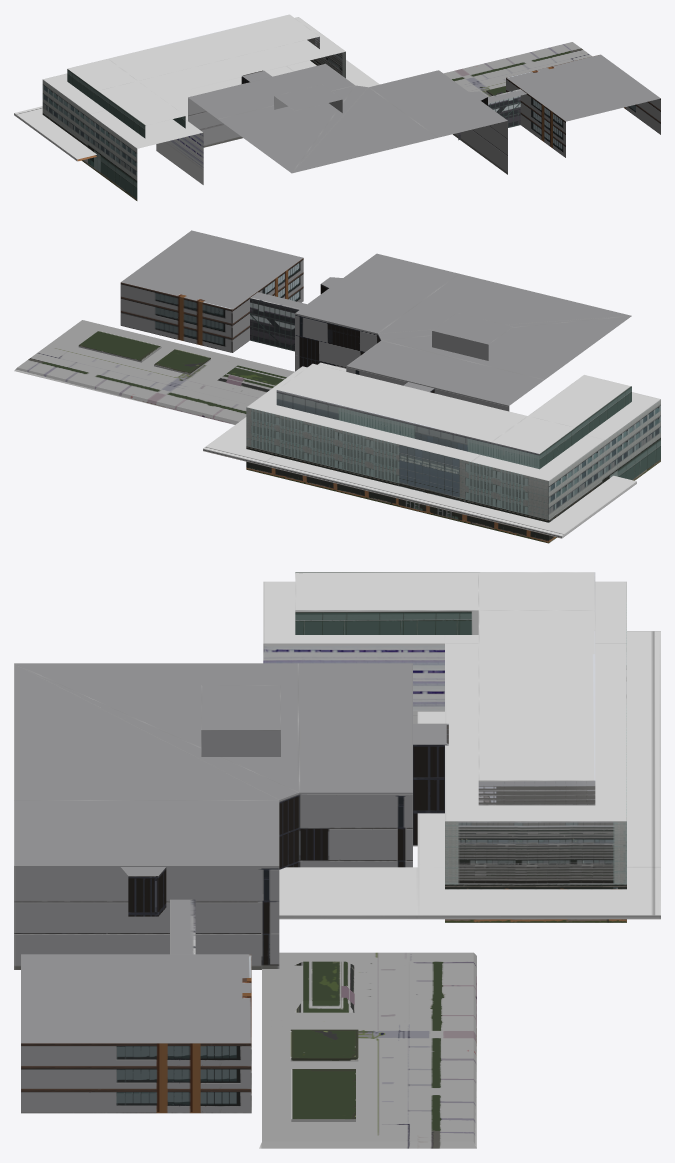
File: eosc.obj
The picture shows the model from 3 angles, top to bottom: view 1: azimuth 30°, elevation 25°; view 2: azimuth 150°, elevation 25°; view 3: azimuth 270°, elevation 25°; orthographic projection. The views are drawn at different scales.
Parts seen in each view (by area): view 1: EOS_1_Mesh.001, EOSC_1_Mesh.001, EOSC_3_Mesh.001, EOS_3_Mesh.001, EOSC_2_Mesh.001, EOSC_Fileds_3_Mesh.001, EOS_2_Mesh.001, EOS_5_Mesh.001; view 2: EOS_1_Mesh.001, EOSC_1_Mesh.001, EOSC_3_Mesh.001, EOS_3_Mesh.001, EOSC_Fileds_3_Mesh.001, EOSC_2_Mesh.001, EOS_2_Mesh.001, EOS_5_Mesh.001, EOSC_Fileds_1_Mesh.001, EOSC_Fileds_4_Mesh.001, EOSC_Fileds_2_Mesh.001; view 3: EOS_1_Mesh.001, EOSC_3_Mesh.001, EOSC_1_Mesh.001, EOS_3_Mesh.001, EOSC_Fileds_3_Mesh.001, EOSC_2_Mesh.001, EOS_2_Mesh.001, EOSC_Fileds_1_Mesh.001, EOS_6_Mesh.001, EOSC_Fileds_4_Mesh.001, EOSC_Fileds_2_Mesh.001, EOS_4_Mesh.001 (+1 smaller).
Part boxes in pixels (box(x1,y1,x2,y2)): EOS_1_Mesh.001: box(188, 63, 507, 174); EOSC_1_Mesh.001: box(42, 17, 345, 200); EOSC_3_Mesh.001: box(67, 14, 319, 138); EOS_3_Mesh.001: box(506, 54, 660, 157); EOSC_2_Mesh.001: box(14, 60, 379, 161); EOSC_Fileds_3_Mesh.001: box(443, 42, 592, 96); EOS_2_Mesh.001: box(274, 84, 342, 112); EOS_5_Mesh.001: box(458, 89, 526, 140); EOS_1_Mesh.001: box(295, 253, 631, 411); EOSC_1_Mesh.001: box(246, 366, 660, 543); EOSC_3_Mesh.001: box(276, 363, 631, 469); EOS_3_Mesh.001: box(120, 230, 303, 352); EOSC_Fileds_3_Mesh.001: box(14, 320, 294, 424); EOSC_2_Mesh.001: box(203, 362, 636, 538); EOS_2_Mesh.001: box(432, 313, 512, 360); EOS_5_Mesh.001: box(250, 292, 306, 351); EOSC_Fileds_1_Mesh.001: box(78, 331, 161, 362); EOSC_Fileds_4_Mesh.001: box(217, 365, 286, 392); EOSC_Fileds_2_Mesh.001: box(154, 349, 210, 374); EOS_1_Mesh.001: box(14, 663, 412, 969); EOSC_3_Mesh.001: box(295, 572, 595, 805); EOSC_1_Mesh.001: box(263, 581, 626, 922); EOS_3_Mesh.001: box(21, 954, 251, 1113); EOSC_Fileds_3_Mesh.001: box(259, 952, 476, 1148); EOSC_2_Mesh.001: box(279, 631, 660, 919); EOS_2_Mesh.001: box(201, 685, 280, 756); EOSC_Fileds_1_Mesh.001: box(291, 1069, 355, 1121); EOS_6_Mesh.001: box(413, 723, 448, 846); EOSC_Fileds_4_Mesh.001: box(294, 961, 354, 1012); EOSC_Fileds_2_Mesh.001: box(290, 1029, 358, 1061); EOS_4_Mesh.001: box(121, 867, 166, 916).
Size of the model in its own units: 0.1121 by 0.0147 by 0.064.
